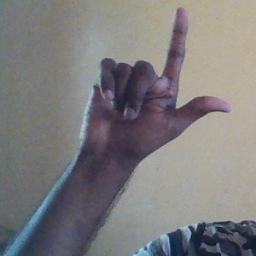L: (79, 7, 232, 156)
